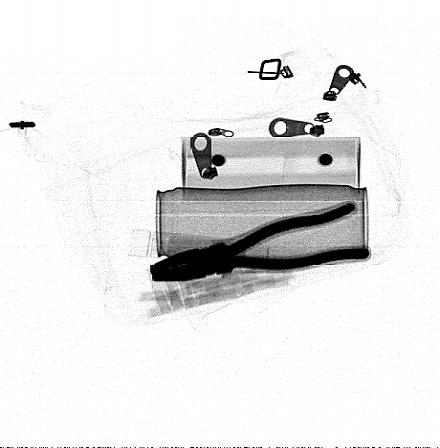Pliers: (149, 202, 372, 282)
